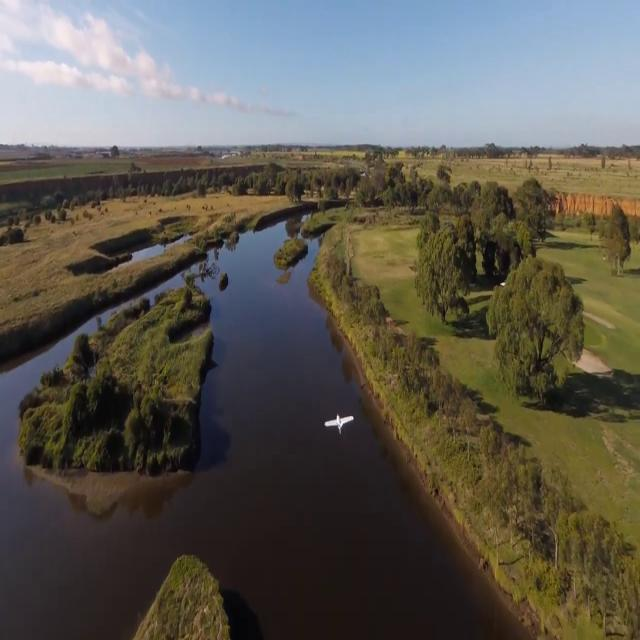iha: (322, 411, 356, 437)
